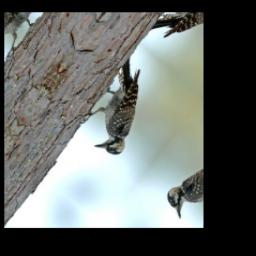Woodpecker: (70, 52, 172, 164)
